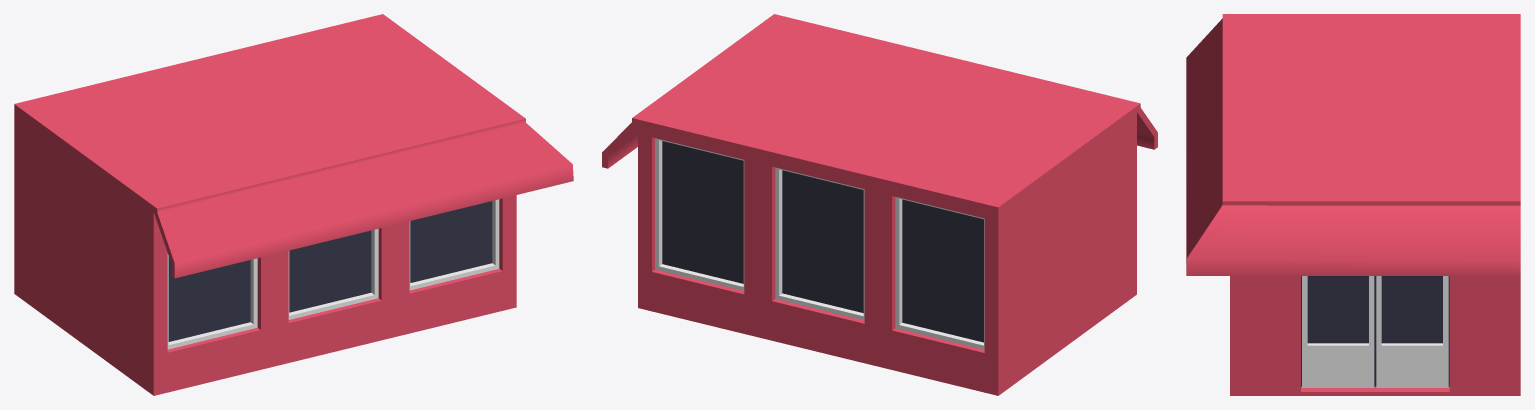
Rendered from 2buildingbase2.gltf.
3 renders of one model, left to right at view 1: azimuth 30°, elevation 25°; view 2: azimuth 150°, elevation 25°; view 3: azimuth 270°, elevation 25°, orthographic. The views are drawn at different scales.
Parts seen in each view (by area): view 1: Ground floor, Marquee, Window glass, Window frame; view 2: Ground floor, Window glass, Window frame, Marquee; view 3: Ground floor, Marquee, Window glass, Door.
Part boxes in pixels (x1=…): Ground floor: x1=14, y1=15, x2=516, y2=395; Marquee: x1=153, y1=14, x2=573, y2=278; Window glass: x1=168, y1=201, x2=492, y2=341; Window frame: x1=167, y1=199, x2=499, y2=349; Ground floor: x1=638, y1=18, x2=1136, y2=395; Window glass: x1=662, y1=141, x2=983, y2=342; Window frame: x1=655, y1=138, x2=984, y2=349; Marquee: x1=602, y1=14, x2=1157, y2=168; Ground floor: x1=1230, y1=14, x2=1520, y2=395; Marquee: x1=1186, y1=14, x2=1520, y2=275; Window glass: x1=1301, y1=276, x2=1449, y2=386; Door: x1=1302, y1=276, x2=1448, y2=387.
Size of the model in its own units: 0.066 by 0.03 by 0.046.
